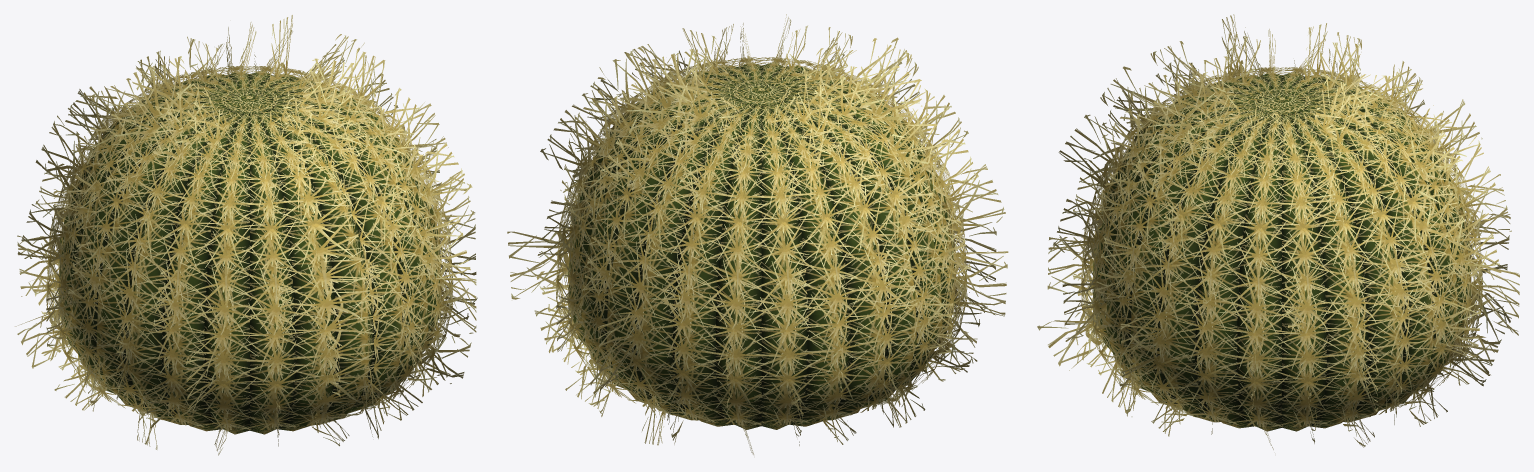
File: mm6_deco_cac8.glb
3 views of the same model, side by side, from view 1: azimuth 30°, elevation 25°; view 2: azimuth 150°, elevation 25°; view 3: azimuth 270°, elevation 25° (orthographic). The views are drawn at different scales.
Visible parts, largest first — view 1: Cactus; view 2: Cactus; view 3: Cactus.
Boxes of the visible parts, x1,y1,x2,y2 form: Cactus: (15,15,477,455); Cactus: (507,14,1008,454); Cactus: (1037,14,1519,449).
Size of the model in its own units: 2.91 by 2.29 by 3.02.
Materials: 2 (2 with a texture image).
